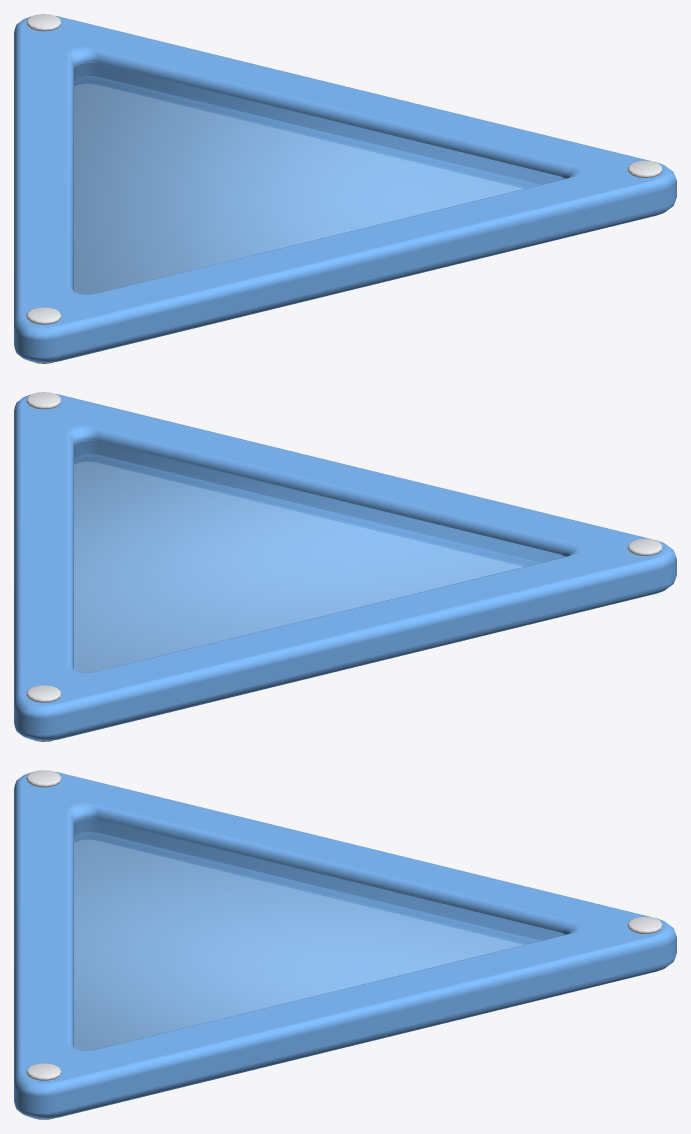
Rendered from triangle.glb.
3 renders of one model, top to bottom at view 1: azimuth 30°, elevation 25°; view 2: azimuth 150°, elevation 25°; view 3: azimuth 270°, elevation 25°, orthographic.
Visible parts, largest first — view 1: Frame, Panel, Rivets; view 2: Frame, Panel, Rivets; view 3: Frame, Panel, Rivets.
Boxes of the visible parts, x1,y1,x2,y2 form: Frame: [14, 16, 676, 362]; Panel: [74, 63, 565, 294]; Rivets: [26, 14, 662, 363]; Frame: [14, 394, 676, 740]; Panel: [74, 441, 565, 672]; Rivets: [26, 392, 662, 741]; Frame: [14, 772, 676, 1118]; Panel: [74, 819, 565, 1050]; Rivets: [26, 770, 662, 1119].
Bounding box in the file's own units: 0.9477 × 0.06 × 0.831.
